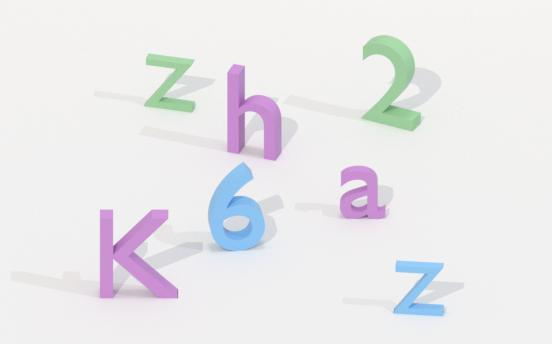2: (357, 33, 426, 133)
6: (206, 161, 268, 256)
a: (339, 163, 389, 221)
h: (222, 52, 286, 169)
k: (96, 204, 187, 304)
z: (390, 257, 450, 320), (142, 48, 198, 115)
